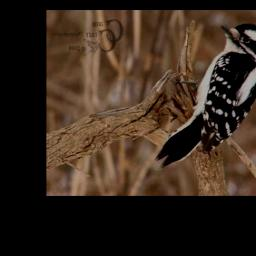Woodpecker: (154, 22, 256, 172)
